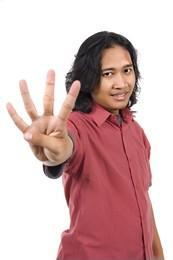face: (99, 55, 135, 109)
